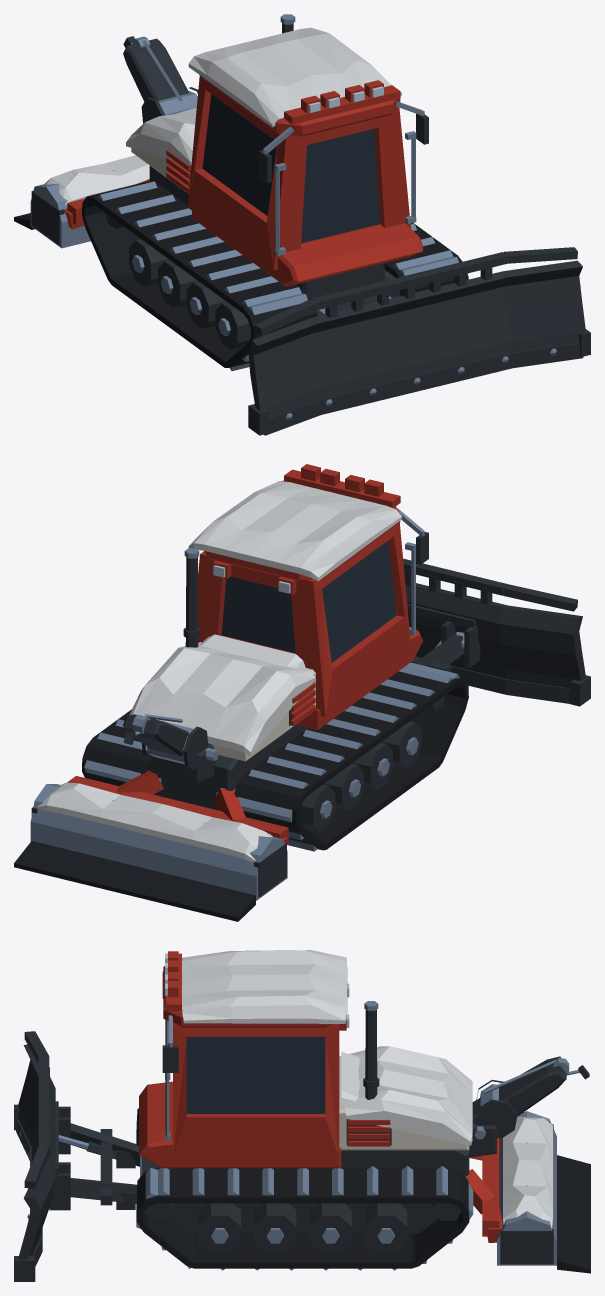
The model's file is piste-basher-snowcat-92fe8b.glb.
3 views of the same model, one above another, from view 1: azimuth 30°, elevation 25°; view 2: azimuth 150°, elevation 25°; view 3: azimuth 270°, elevation 25° (orthographic). The views are drawn at different scales.
Parts seen in each view (by area): view 1: machine, moldboard, tiller-body, winch-boom, roller-r1-mesh, roller-r2-mesh, roller-r3-mesh, roller-r4-mesh; view 2: machine, tiller-body, moldboard, winch-boom, roller-r4-mesh, roller-r3-mesh, roller-r1-mesh, roller-r2-mesh, push-frame; view 3: machine, tiller-body, moldboard, winch-boom, push-frame, roller-l1-mesh, roller-l2-mesh, roller-l3-mesh, roller-l4-mesh.
Boxes of the visible parts, left/top/right/bottom form: machine: left=82, top=14, right=468, bottom=371; moldboard: left=248, top=247, right=590, bottom=435; tiller-body: left=14, top=155, right=149, bottom=248; winch-boom: left=123, top=36, right=198, bottom=123; roller-r1-mesh: left=215, top=302, right=250, bottom=349; roller-r2-mesh: left=186, top=281, right=226, bottom=328; roller-r3-mesh: left=158, top=260, right=198, bottom=307; roller-r4-mesh: left=129, top=239, right=169, bottom=286; machine: left=82, top=464, right=468, bottom=851; tiller-body: left=14, top=770, right=288, bottom=921; moldboard: left=403, top=558, right=590, bottom=706; winch-boom: left=123, top=714, right=208, bottom=769; roller-r4-mesh: left=299, top=784, right=335, bottom=832; roller-r3-mesh: left=323, top=763, right=363, bottom=811; roller-r1-mesh: left=381, top=721, right=421, bottom=768; roller-r2-mesh: left=352, top=742, right=392, bottom=789; push-frame: left=411, top=632, right=464, bottom=671; machine: left=136, top=950, right=496, bottom=1270; tiller-body: left=465, top=1111, right=590, bottom=1273; moldboard: left=14, top=1031, right=70, bottom=1281; winch-boom: left=472, top=1056, right=589, bottom=1138; push-frame: left=58, top=1123, right=139, bottom=1209; roller-l1-mesh: left=198, top=1203, right=240, bottom=1254; roller-l2-mesh: left=254, top=1203, right=296, bottom=1254; roller-l3-mesh: left=309, top=1203, right=351, bottom=1254; roller-l4-mesh: left=365, top=1203, right=407, bottom=1254.
Bounding box in the file's own units: 3.46 × 2.62 × 5.41.
